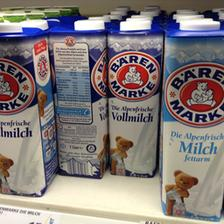Milch: (160, 17, 224, 221), (0, 20, 56, 195), (47, 20, 105, 180), (108, 17, 158, 177)
